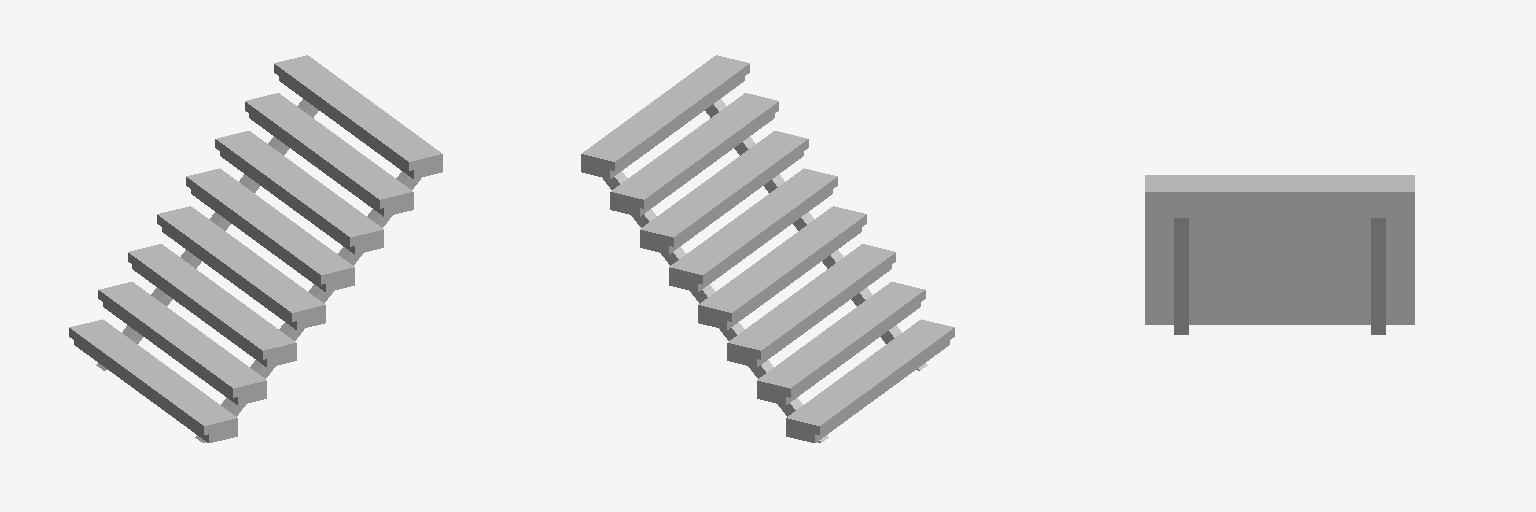
The model's file is stairsWideWood.obj.
3 views of the same model, side by side, from view 1: azimuth 30°, elevation 25°; view 2: azimuth 150°, elevation 25°; view 3: azimuth 270°, elevation 25° (orthographic).
Parts seen in each view (by area): view 1: stairsWideWood; view 2: stairsWideWood; view 3: stairsWideWood.
Boxes of the visible parts, <box> form: stairsWideWood: <box>69,55,442,442</box>; stairsWideWood: <box>581,55,954,442</box>; stairsWideWood: <box>1145,175,1414,334</box>.
Bounding box in the file's own units: 1.02 × 1 × 1.